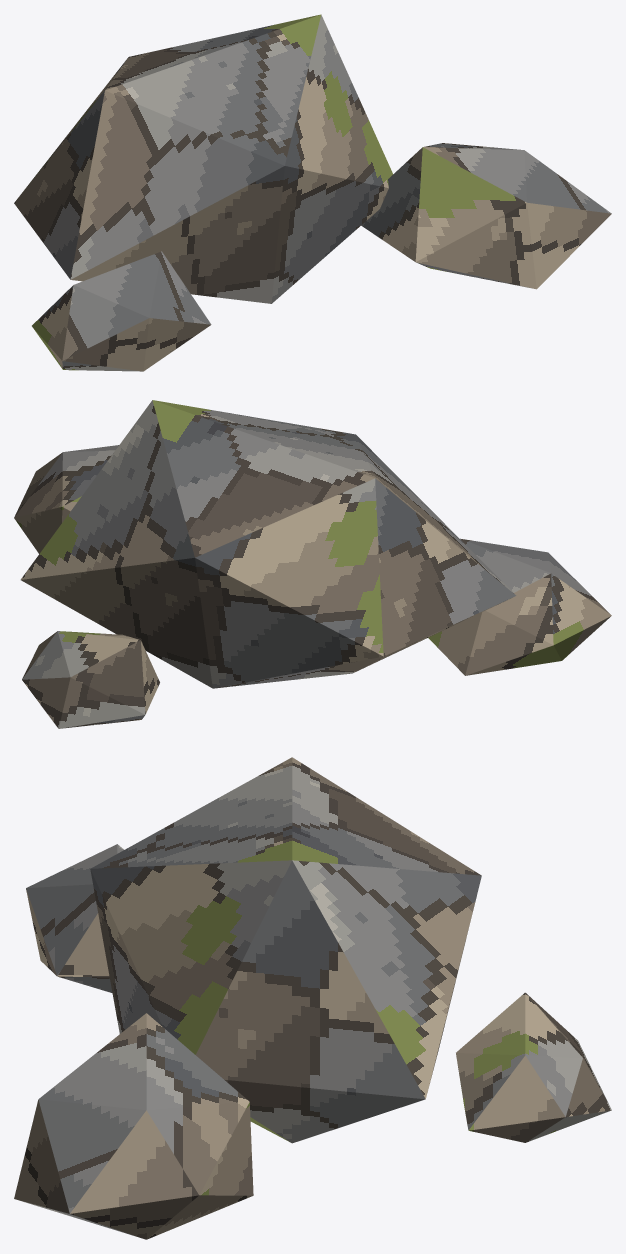
File: VG_RocksSmall.obj
3 views of the same model, one above another, from view 1: azimuth 30°, elevation 25°; view 2: azimuth 150°, elevation 25°; view 3: azimuth 270°, elevation 25° (orthographic). The views are drawn at different scales.
Parts seen in each view (by area): view 1: VG_RocksSmall; view 2: VG_RocksSmall; view 3: VG_RocksSmall.
Part boxes in pixels (x1=…): VG_RocksSmall: x1=14, y1=14, x2=611, y2=371; VG_RocksSmall: x1=14, y1=400, x2=611, y2=728; VG_RocksSmall: x1=14, y1=757, x2=611, y2=1239.
Bounding box in the file's own units: 1.38 × 0.5438 × 1.03.
Materials: 1 (1 with a texture image).
